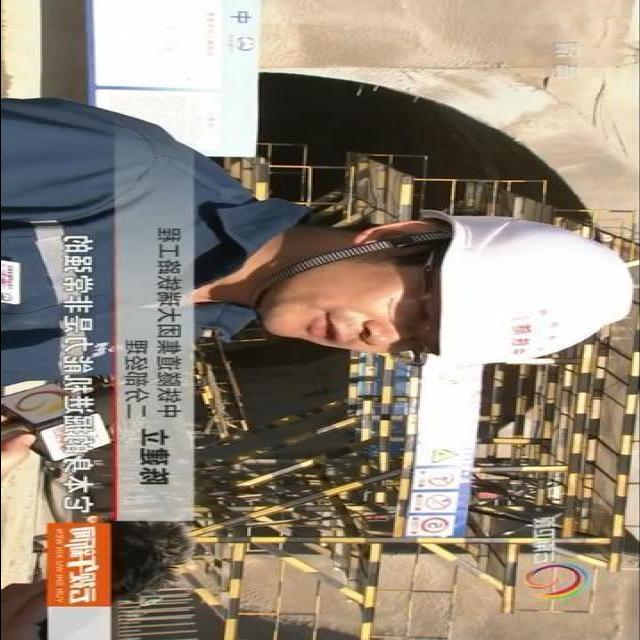helmet: (416, 202, 640, 389)
